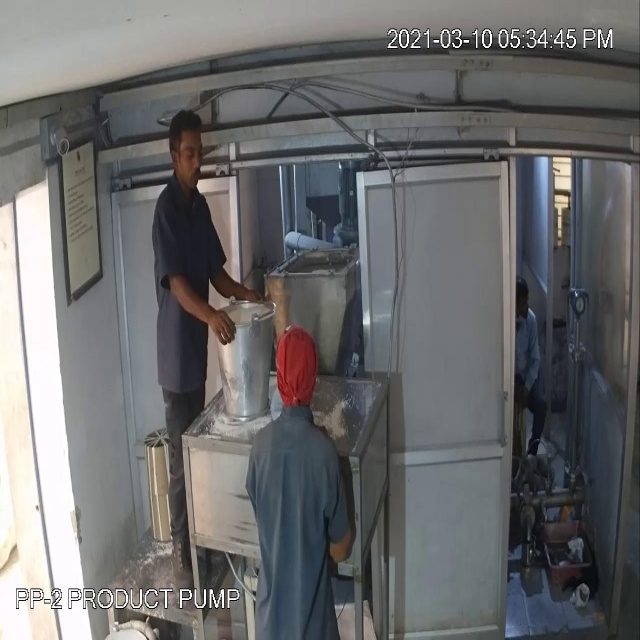Sin_guantes: (170, 263, 246, 353), (204, 251, 261, 316)
